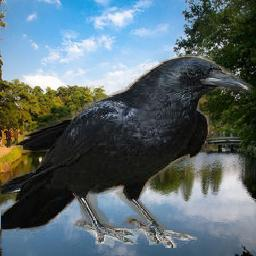Crow: (1, 54, 253, 248)
